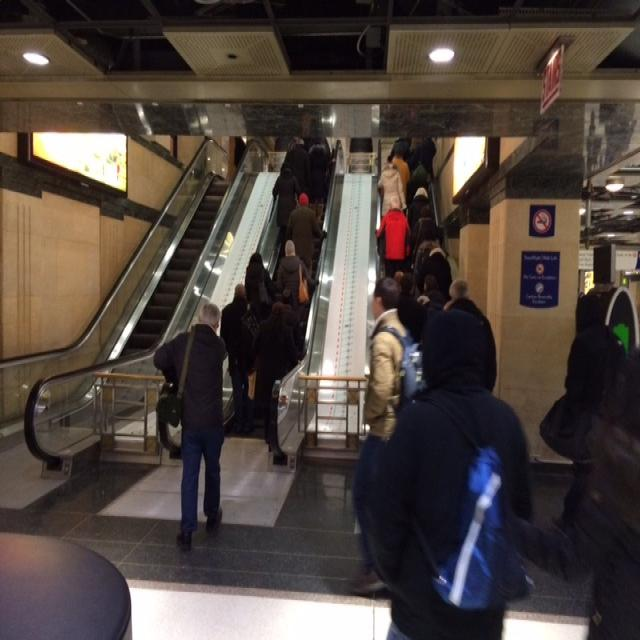body: (350, 285, 540, 639), (346, 273, 428, 600), (151, 298, 230, 550), (559, 292, 629, 529), (586, 349, 640, 636), (249, 299, 305, 456), (439, 277, 498, 393), (219, 282, 262, 429), (274, 236, 323, 343), (286, 192, 329, 275), (586, 103, 640, 169), (374, 193, 413, 280), (269, 160, 303, 253), (302, 133, 334, 227), (410, 223, 443, 308), (412, 237, 453, 303), (393, 270, 428, 346), (243, 251, 277, 328), (471, 96, 535, 135), (375, 153, 408, 219), (408, 156, 430, 241), (410, 202, 437, 270), (283, 136, 313, 189), (406, 184, 436, 232), (391, 146, 411, 218), (388, 134, 437, 162), (335, 139, 373, 169), (392, 269, 412, 296), (422, 274, 439, 302), (249, 144, 261, 169)
